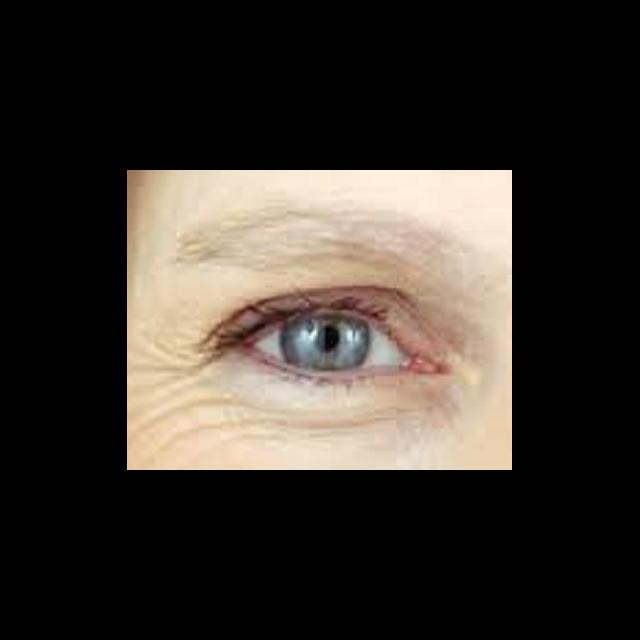eye: (238, 309, 413, 372)
iris: (281, 314, 370, 368)
